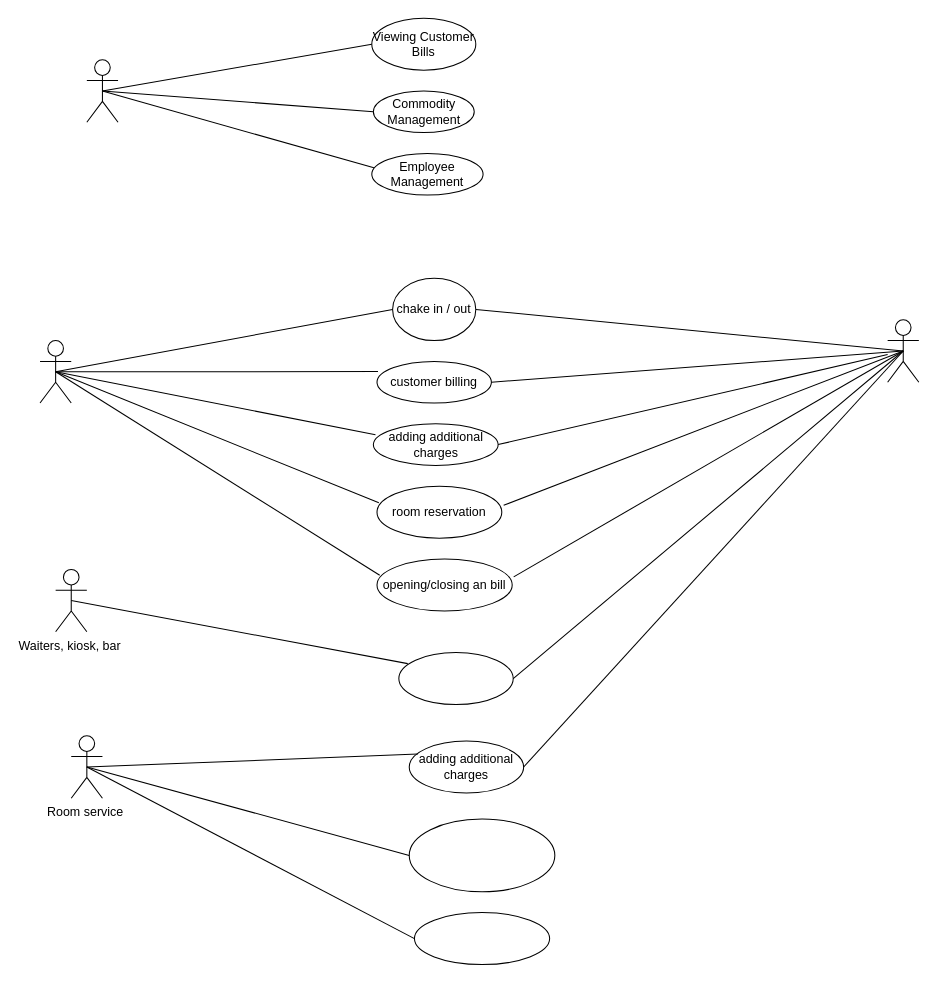
The diagram is 946 pixels wide and 983 high, and some of its shapes have lost their labels. The shapes that lost their labels are listed below. From the top down, each one's centre as x and y in pixels, then its label:
the point at 102,90: Management
the point at 903,350: custemer
the point at 55,371: Reception
the point at 455,678: add additional charges
the point at 481,855: confirmation of performance of the service
the point at 481,938: assignment of a specific employee
